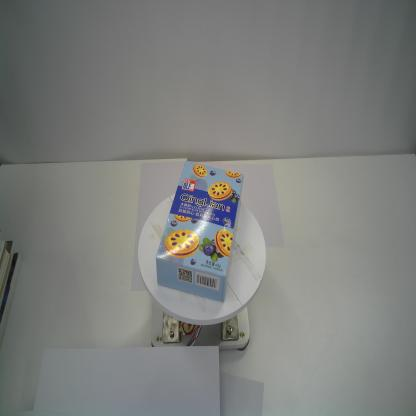Dessert: (155, 160, 244, 303)
